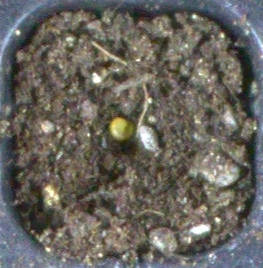chilli seed: (109, 116, 134, 140)
